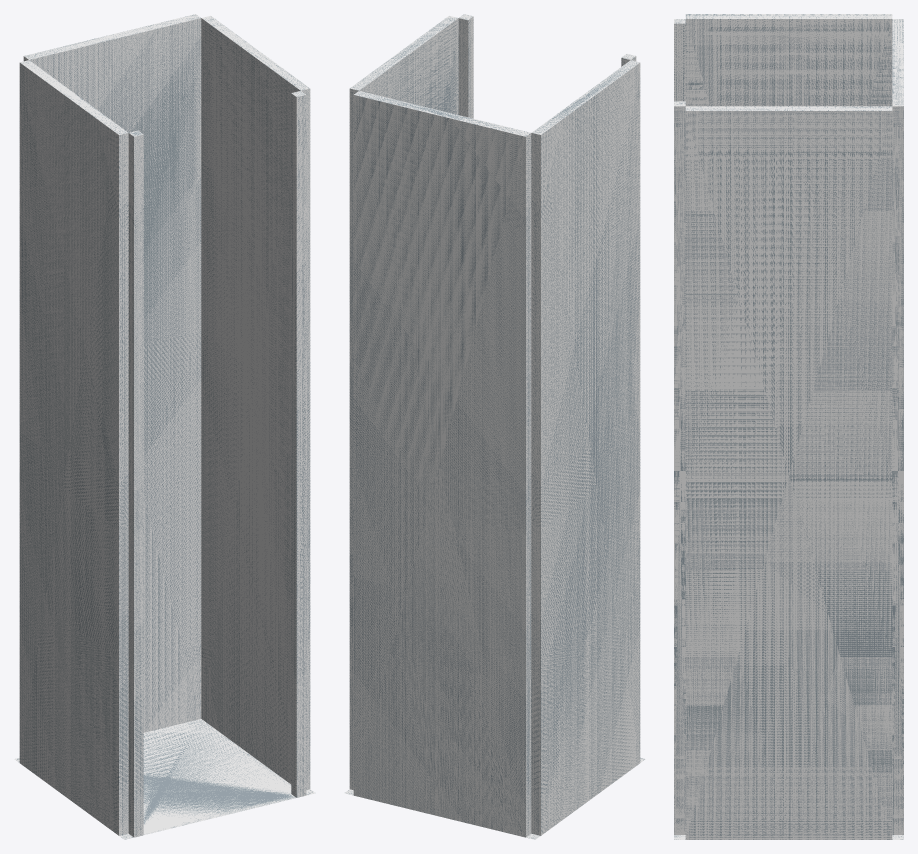
Rendered from RaumStart.fbx.
The picture shows the model from 3 angles, left to right: view 1: azimuth 30°, elevation 25°; view 2: azimuth 150°, elevation 25°; view 3: azimuth 270°, elevation 25°; orthographic projection. The views are drawn at different scales.
Visible parts, largest first — view 1: Model; view 2: Model; view 3: Model.
Boxes of the visible parts, x1=… form: Model: x1=14, y1=14, x2=315, y2=839; Model: x1=344, y1=14, x2=645, y2=839; Model: x1=674, y1=14, x2=903, y2=839.
Size of the model in its own units: 1 by 3.5 by 1.
